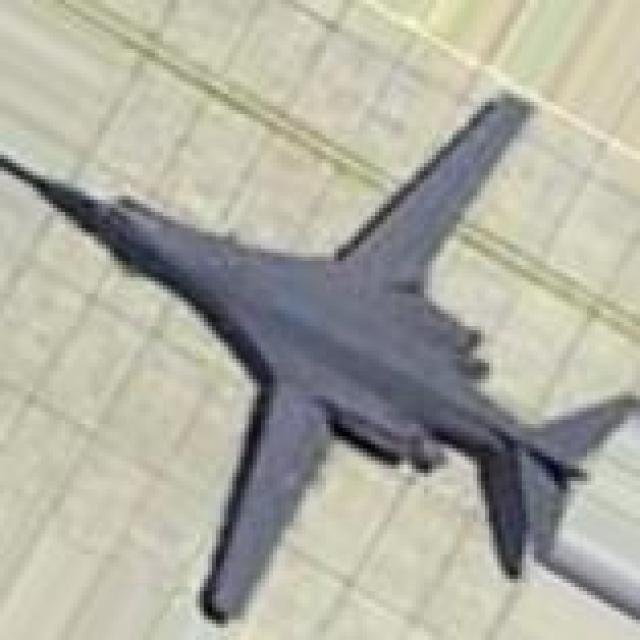B-1_TopDown: (0, 86, 636, 624)
